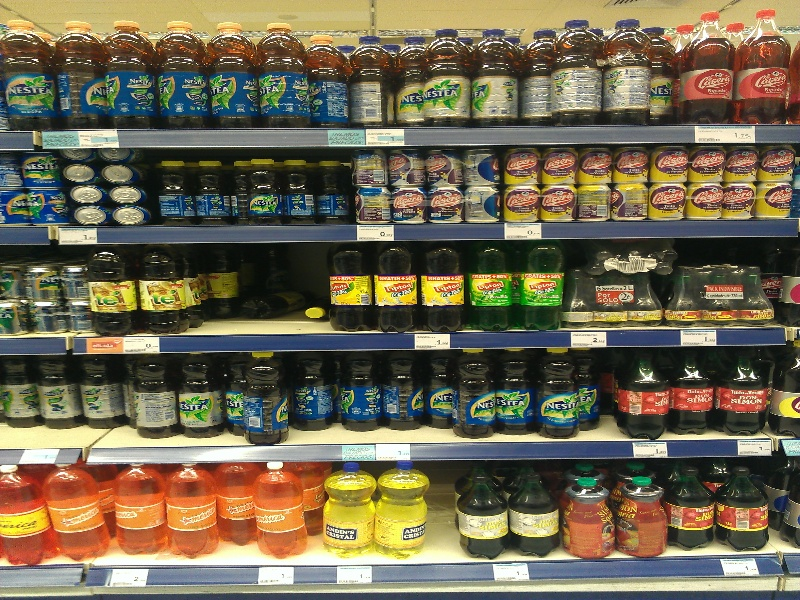lemonade: (734, 9, 792, 125), (254, 23, 316, 131), (103, 19, 158, 132), (685, 8, 737, 127), (49, 463, 112, 561), (155, 21, 211, 129), (254, 460, 312, 563), (549, 18, 603, 128), (208, 22, 260, 131), (53, 23, 104, 130), (167, 463, 223, 557), (321, 461, 375, 558), (424, 27, 476, 127), (114, 462, 168, 558), (607, 14, 651, 130), (241, 350, 293, 448), (376, 463, 428, 561), (346, 34, 399, 128), (326, 242, 377, 336), (717, 348, 772, 435), (417, 240, 468, 333), (474, 27, 520, 129), (517, 240, 567, 332), (617, 350, 666, 439), (467, 243, 515, 333), (453, 348, 499, 439), (668, 348, 714, 439), (539, 348, 583, 440), (377, 242, 417, 335)
